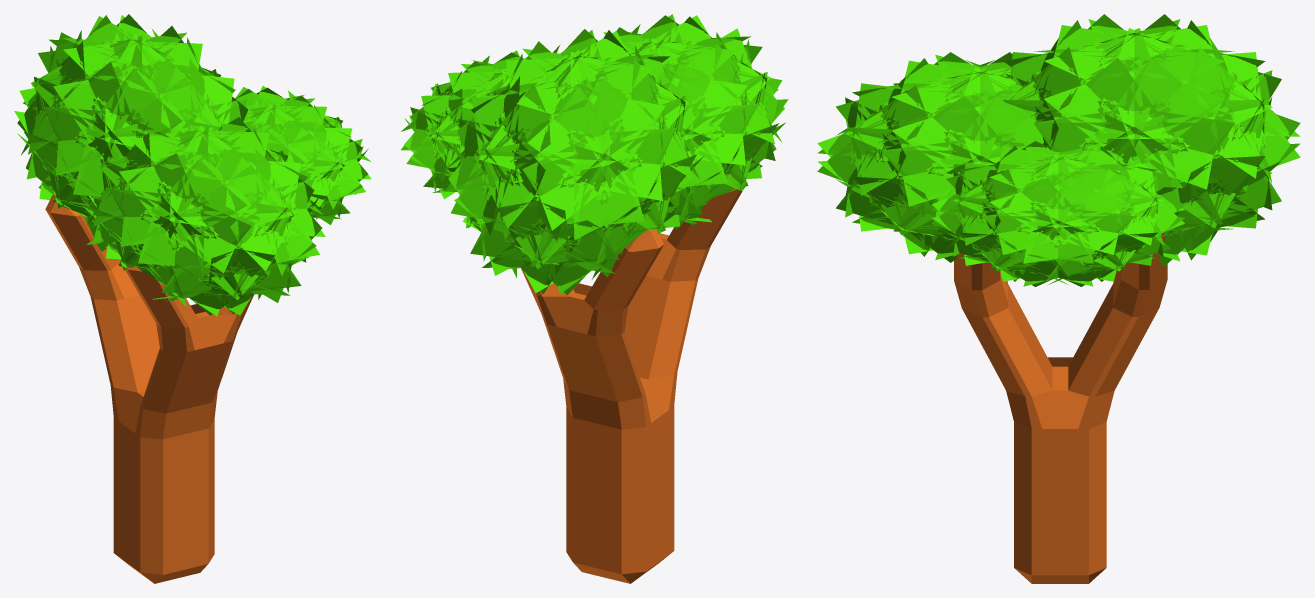
File: tree.fbx
3 renders of one model, left to right at view 1: azimuth 30°, elevation 25°; view 2: azimuth 150°, elevation 25°; view 3: azimuth 270°, elevation 25°, orthographic. The views are drawn at different scales.
Visible parts, largest first — view 1: Icosphere.002; view 2: Icosphere.002; view 3: Icosphere.002.
Part boxes in pixels (x1,y1,x2,y2): Icosphere.002: (14, 14, 371, 583); Icosphere.002: (401, 14, 788, 583); Icosphere.002: (817, 14, 1300, 583).
Size of the model in its own units: 540 by 924 by 742.
